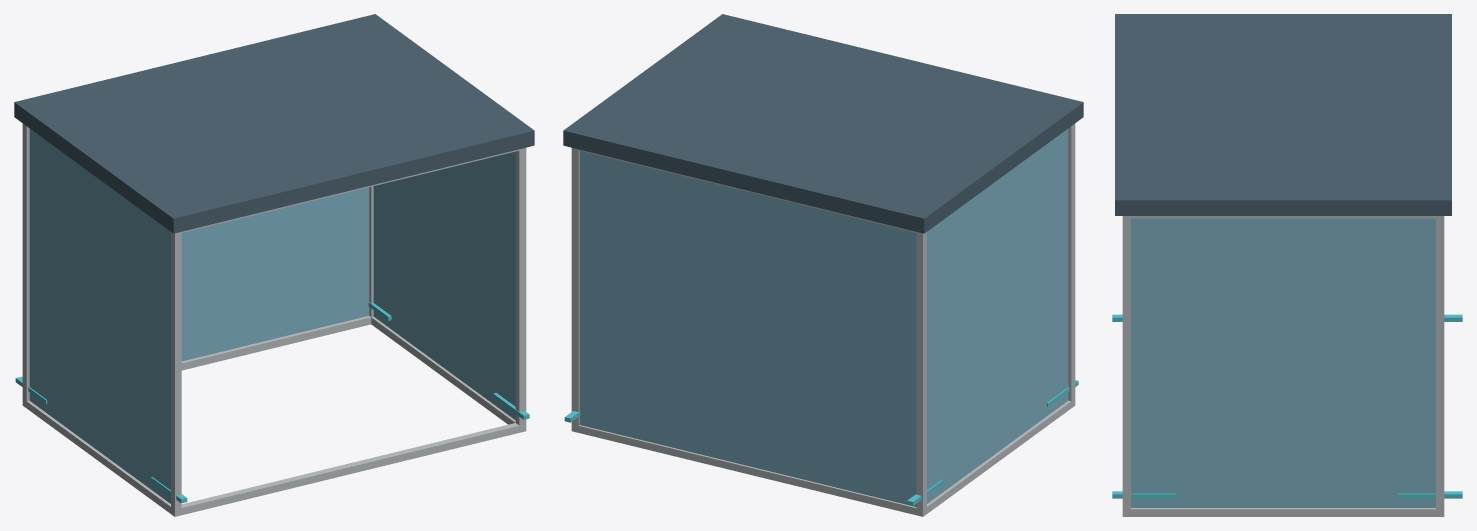
File: 02_L83_TransparentSpacecraftPowerTestChamber.glb
3 views of the same model, side by side, from view 1: azimuth 30°, elevation 25°; view 2: azimuth 150°, elevation 25°; view 3: azimuth 270°, elevation 25° (orthographic). The views are drawn at different scales.
Parts seen in each view (by area): view 1: TransparentSpacecraftPowerTestChamber_Node_0015, TransparentSpacecraftPowerTestChamber_Node_0013, TransparentSpacecraftPowerTestChamber_Node_0014, TransparentSpacecraftPowerTestChamber_Node_0012, TransparentSpacecraftPowerTestChamber_Node_0005, TransparentSpacecraftPowerTestChamber_Node_0003, TransparentSpacecraftPowerTestChamber_Node_0001, TransparentSpacecraftPowerTestChamber_Node_0000, TransparentSpacecraftPowerTestChamber_Node_0004, TransparentSpacecraftPowerTestChamber_Node_0006, TransparentSpacecraftPowerTestChamber_Node_0007, TransparentSpacecraftPowerTestChamber_Node_0009 (+1 smaller); view 2: TransparentSpacecraftPowerTestChamber_Node_0012, TransparentSpacecraftPowerTestChamber_Node_0015, TransparentSpacecraftPowerTestChamber_Node_0013, TransparentSpacecraftPowerTestChamber_Node_0000, TransparentSpacecraftPowerTestChamber_Node_0004, TransparentSpacecraftPowerTestChamber_Node_0002, TransparentSpacecraftPowerTestChamber_Node_0001, TransparentSpacecraftPowerTestChamber_Node_0006, TransparentSpacecraftPowerTestChamber_Node_0008; view 3: TransparentSpacecraftPowerTestChamber_Node_0014, TransparentSpacecraftPowerTestChamber_Node_0015, TransparentSpacecraftPowerTestChamber_Node_0007, TransparentSpacecraftPowerTestChamber_Node_0003, TransparentSpacecraftPowerTestChamber_Node_0002, TransparentSpacecraftPowerTestChamber_Node_0011.
Boxes of the visible parts, left/top/right/bottom form: TransparentSpacecraftPowerTestChamber_Node_0015: left=14, top=14, right=534, bottom=233; TransparentSpacecraftPowerTestChamber_Node_0013: left=29, top=129, right=170, bottom=503; TransparentSpacecraftPowerTestChamber_Node_0014: left=373, top=151, right=515, bottom=419; TransparentSpacecraftPowerTestChamber_Node_0012: left=181, top=187, right=369, bottom=361; TransparentSpacecraftPowerTestChamber_Node_0005: left=171, top=423, right=525, bottom=516; TransparentSpacecraftPowerTestChamber_Node_0003: left=515, top=148, right=526, bottom=431; TransparentSpacecraftPowerTestChamber_Node_0001: left=171, top=232, right=181, bottom=516; TransparentSpacecraftPowerTestChamber_Node_0000: left=22, top=123, right=29, bottom=407; TransparentSpacecraftPowerTestChamber_Node_0004: left=22, top=316, right=371, bottom=407; TransparentSpacecraftPowerTestChamber_Node_0006: left=22, top=399, right=178, bottom=516; TransparentSpacecraftPowerTestChamber_Node_0007: left=371, top=316, right=515, bottom=424; TransparentSpacecraftPowerTestChamber_Node_0009: left=174, top=148, right=526, bottom=233; TransparentSpacecraftPowerTestChamber_Node_0012: left=579, top=151, right=916, bottom=506; TransparentSpacecraftPowerTestChamber_Node_0015: left=563, top=14, right=1083, bottom=233; TransparentSpacecraftPowerTestChamber_Node_0013: left=927, top=129, right=1068, bottom=503; TransparentSpacecraftPowerTestChamber_Node_0000: left=916, top=232, right=926, bottom=516; TransparentSpacecraftPowerTestChamber_Node_0004: left=571, top=425, right=926, bottom=515; TransparentSpacecraftPowerTestChamber_Node_0002: left=571, top=148, right=579, bottom=432; TransparentSpacecraftPowerTestChamber_Node_0001: left=1068, top=123, right=1075, bottom=405; TransparentSpacecraftPowerTestChamber_Node_0006: left=916, top=399, right=1074, bottom=515; TransparentSpacecraftPowerTestChamber_Node_0008: left=572, top=148, right=921, bottom=233; TransparentSpacecraftPowerTestChamber_Node_0014: left=1131, top=218, right=1435, bottom=507; TransparentSpacecraftPowerTestChamber_Node_0015: left=1115, top=14, right=1451, bottom=215; TransparentSpacecraftPowerTestChamber_Node_0007: left=1123, top=508, right=1441, bottom=516; TransparentSpacecraftPowerTestChamber_Node_0003: left=1122, top=216, right=1130, bottom=516; TransparentSpacecraftPowerTestChamber_Node_0002: left=1436, top=216, right=1444, bottom=516; TransparentSpacecraftPowerTestChamber_Node_0011: left=1123, top=216, right=1443, bottom=218.
Size of the model in its own units: 5.55 by 4.43 by 4.41.
